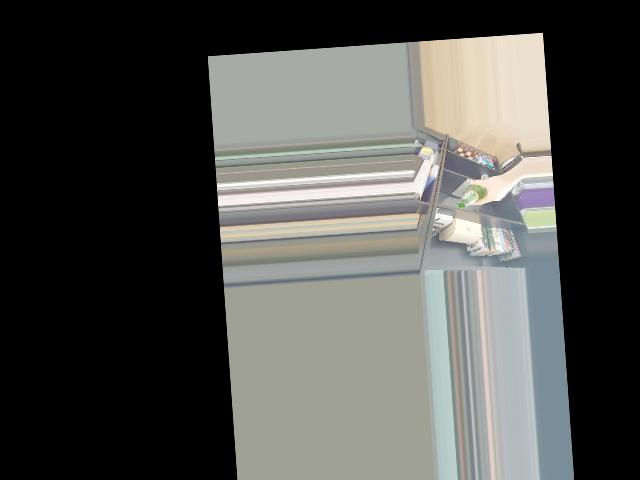beer: (454, 177, 490, 208)
